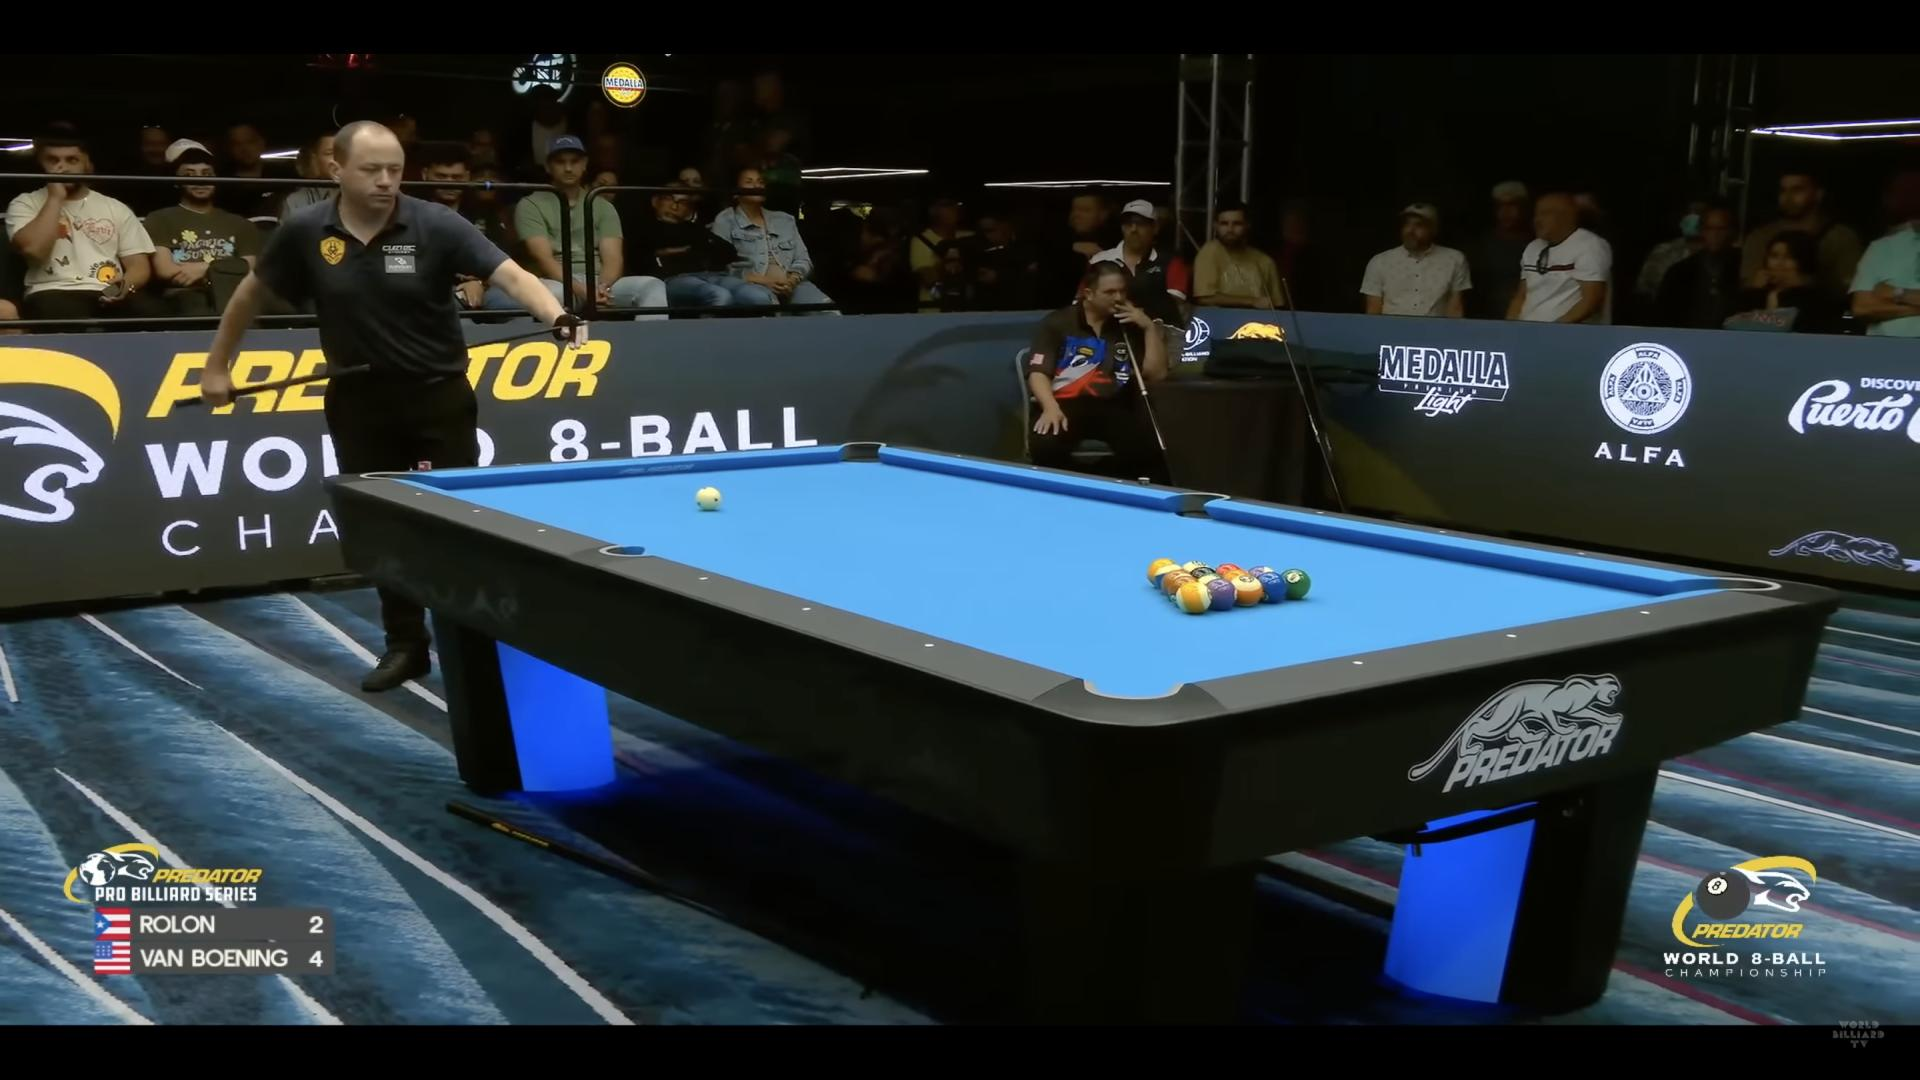Black: (1191, 567, 1216, 579)
Cue: (695, 487, 721, 510)
Dot: (695, 572, 711, 585), (799, 604, 814, 617), (411, 488, 426, 501), (920, 640, 936, 651), (533, 526, 549, 538), (468, 505, 484, 517), (1353, 658, 1364, 669), (1506, 630, 1516, 641), (1639, 607, 1650, 617), (1114, 476, 1125, 487), (1576, 547, 1586, 556), (1437, 526, 1448, 535), (1316, 509, 1327, 518), (1031, 465, 1039, 472), (955, 452, 963, 459), (516, 462, 521, 468), (741, 448, 745, 452), (633, 455, 637, 459)
Solid: (1205, 579, 1237, 611), (1280, 568, 1311, 600), (1257, 572, 1287, 604), (1147, 558, 1176, 585), (1168, 576, 1197, 603), (1222, 568, 1250, 582), (1216, 563, 1240, 575)
Striped: (1176, 582, 1213, 615), (1230, 575, 1262, 607), (1160, 570, 1192, 596), (1154, 564, 1184, 588), (1183, 560, 1209, 572), (1197, 572, 1224, 584), (1247, 566, 1274, 578)
